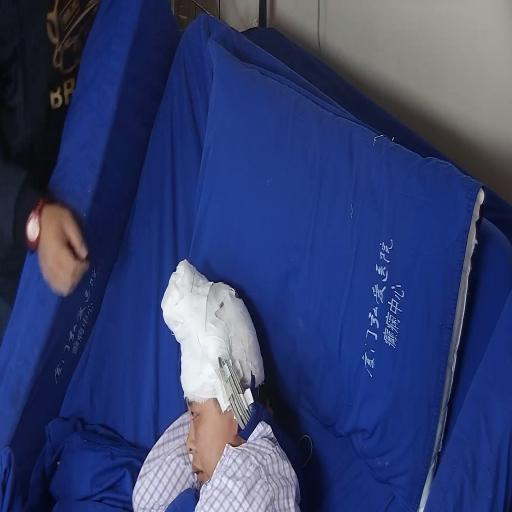Seizure: (172, 354, 241, 481)
